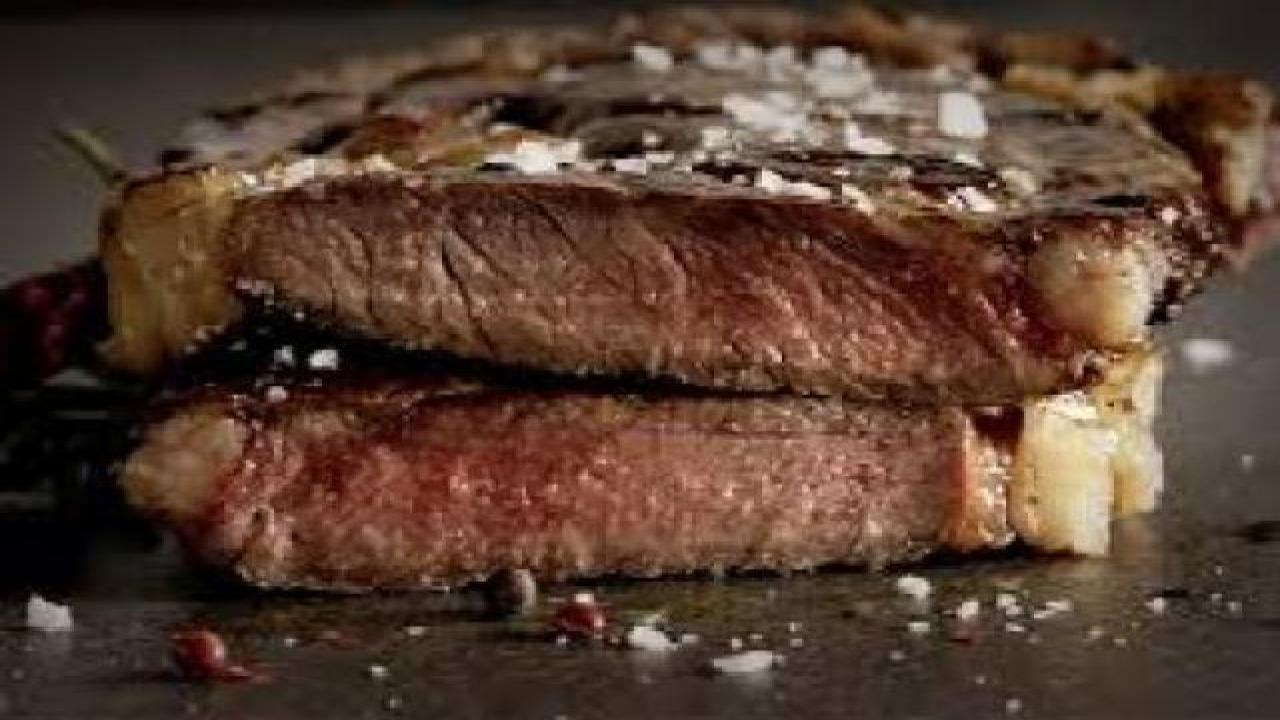Carne: (91, 23, 1259, 366), (66, 378, 1168, 595)
